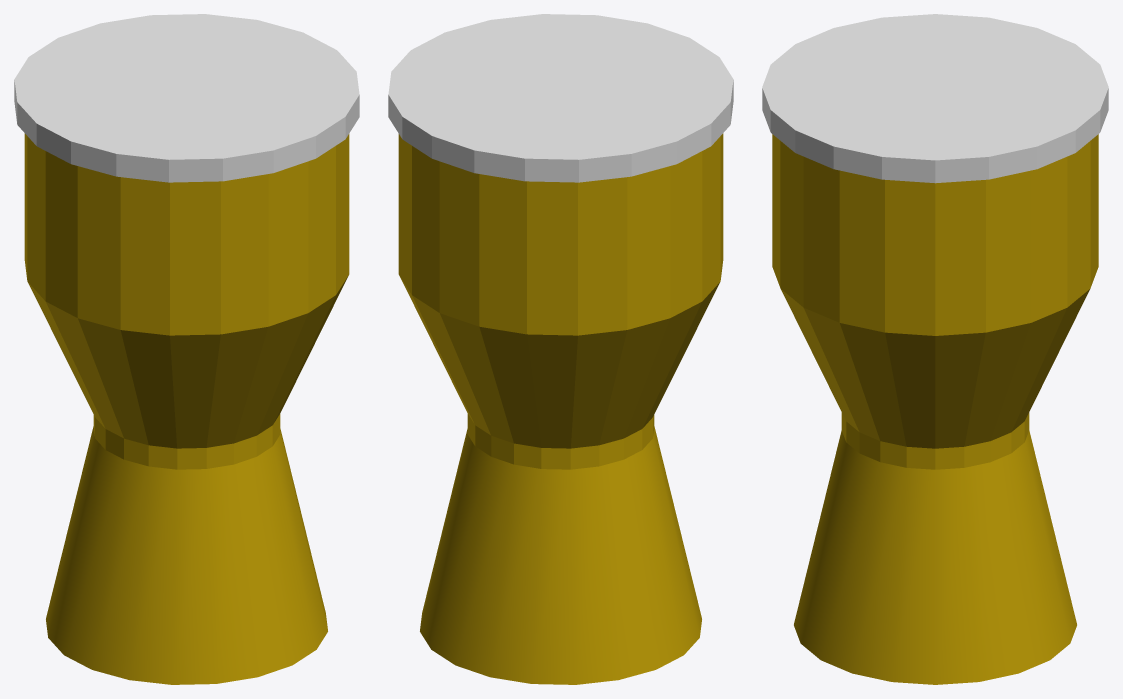
Rendered from drumunity.fbx.
The picture shows the model from 3 angles, left to right: view 1: azimuth 30°, elevation 25°; view 2: azimuth 150°, elevation 25°; view 3: azimuth 270°, elevation 25°; orthographic projection.
Visible parts, largest first — view 1: polySurface4, polySurface2, polySurface3; view 2: polySurface4, polySurface2, polySurface3; view 3: polySurface4, polySurface2, polySurface3.
Part boxes in pixels (<box>): polySurface4: <box>24,133,349,684</box>; polySurface2: <box>14,14,359,182</box>; polySurface3: <box>28,275,348,448</box>; polySurface4: <box>398,133,723,684</box>; polySurface2: <box>388,14,733,182</box>; polySurface3: <box>399,275,719,448</box>; polySurface4: <box>772,134,1098,684</box>; polySurface2: <box>762,14,1108,183</box>; polySurface3: <box>780,288,1090,448</box>.
Size of the model in its own units: 4.06 by 6.95 by 4.06.
